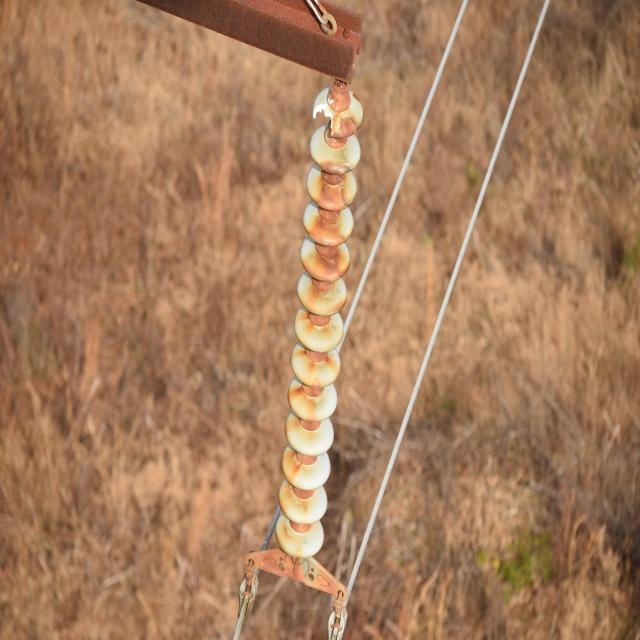broken: (313, 102, 339, 141)
insulator: (276, 82, 362, 559)
